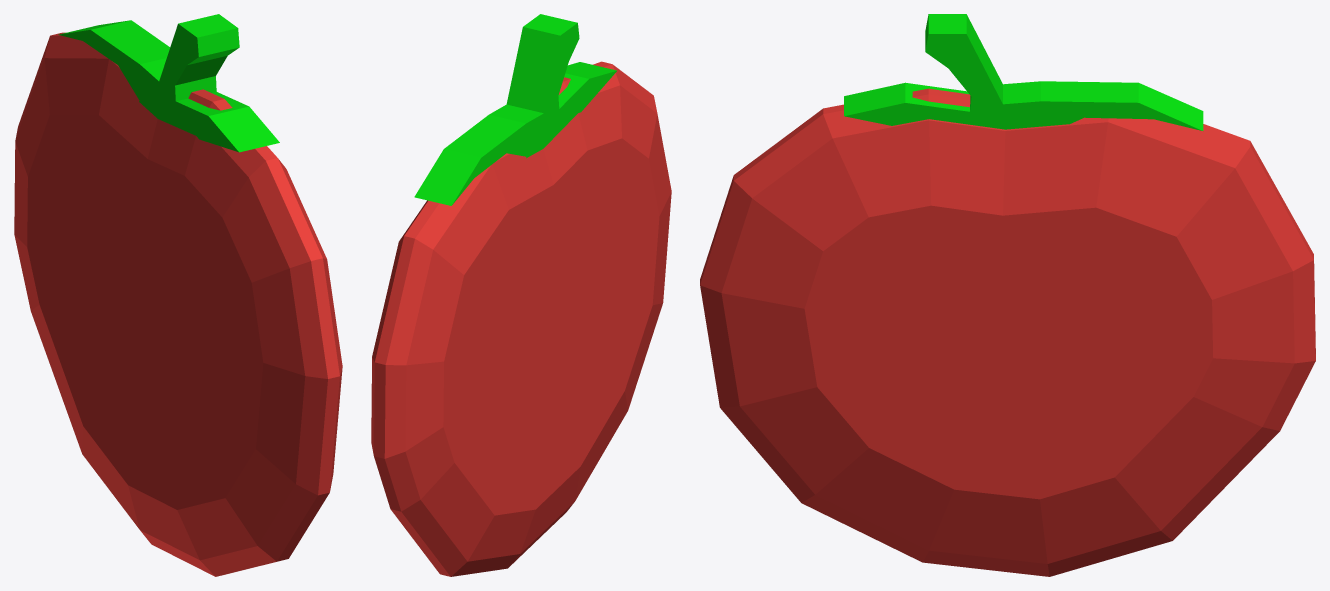
The model's file is tomato.fbx.
3 renders of one model, left to right at view 1: azimuth 30°, elevation 25°; view 2: azimuth 150°, elevation 25°; view 3: azimuth 270°, elevation 25°, orthographic. The views are drawn at different scales.
Visible parts, largest first — view 1: Plane, Plane.001; view 2: Plane, Plane.001; view 3: Plane, Plane.001.
Part boxes in pixels (box(x1,y1,x2,y2)): Plane: box(14, 32, 342, 576); Plane.001: box(58, 14, 279, 152); Plane: box(371, 61, 671, 576); Plane.001: box(414, 14, 616, 205); Plane: box(700, 88, 1315, 576); Plane.001: box(844, 14, 1203, 130).
Size of the model in its own units: 69.57 by 499 by 506.
